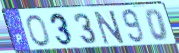0: (144, 8, 170, 43)
3: (49, 12, 76, 48), (74, 12, 98, 45)
9: (121, 8, 146, 46)
N: (93, 9, 126, 46)
O: (26, 14, 52, 48)
